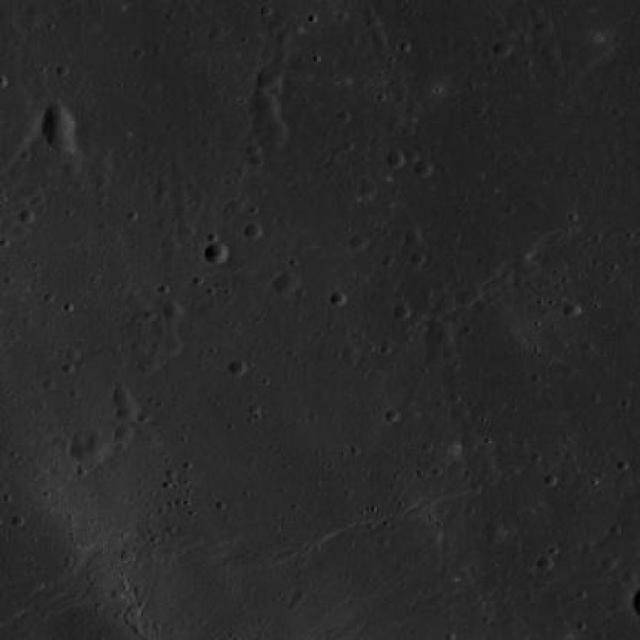crater: (70, 432, 107, 466), (254, 120, 290, 151), (41, 111, 76, 142), (424, 319, 456, 347), (250, 90, 279, 116), (47, 130, 76, 156), (273, 273, 298, 295), (204, 243, 228, 265), (256, 70, 278, 92), (44, 102, 67, 122), (162, 301, 184, 321), (483, 522, 505, 541), (112, 385, 134, 403), (114, 423, 134, 442), (116, 405, 136, 423), (162, 337, 182, 355), (87, 434, 107, 451), (415, 160, 433, 178), (358, 182, 376, 200), (493, 41, 512, 58), (243, 223, 262, 240), (227, 360, 246, 377), (386, 150, 404, 167), (512, 253, 530, 270), (404, 228, 422, 244), (404, 100, 422, 116), (348, 234, 367, 249), (61, 161, 78, 176)
